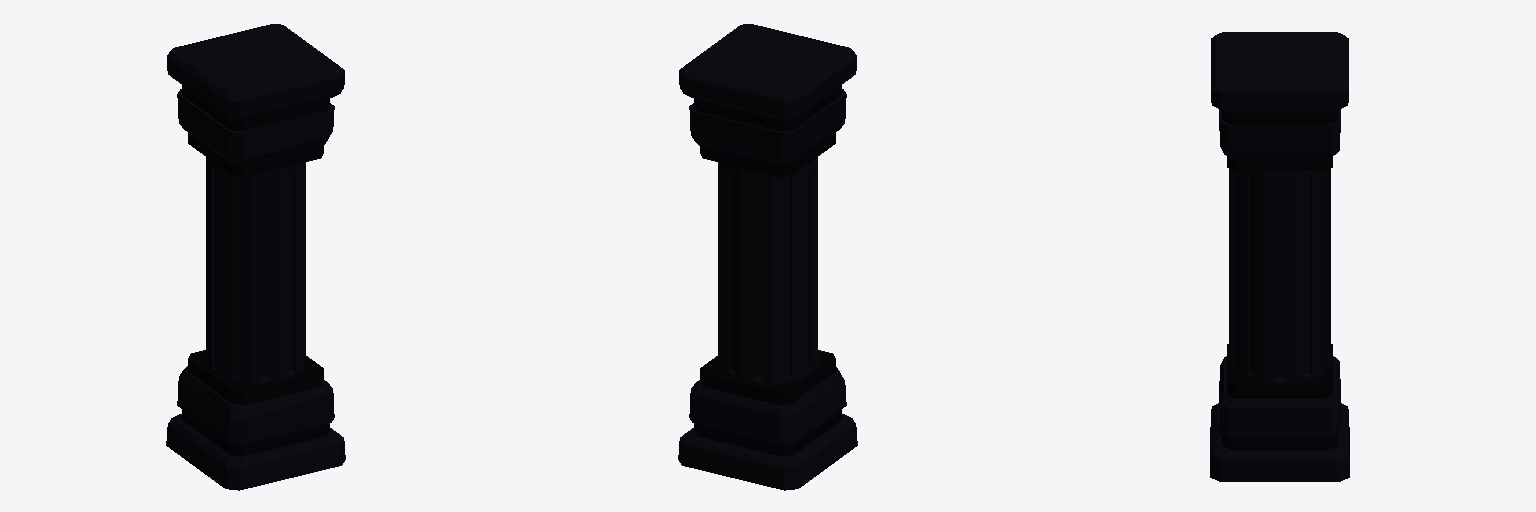
The model's file is Column2.obj.
3 renders of one model, left to right at view 1: azimuth 30°, elevation 25°; view 2: azimuth 150°, elevation 25°; view 3: azimuth 270°, elevation 25°, orthographic.
Size of the model in its own units: 1.3 by 4.07 by 1.3.